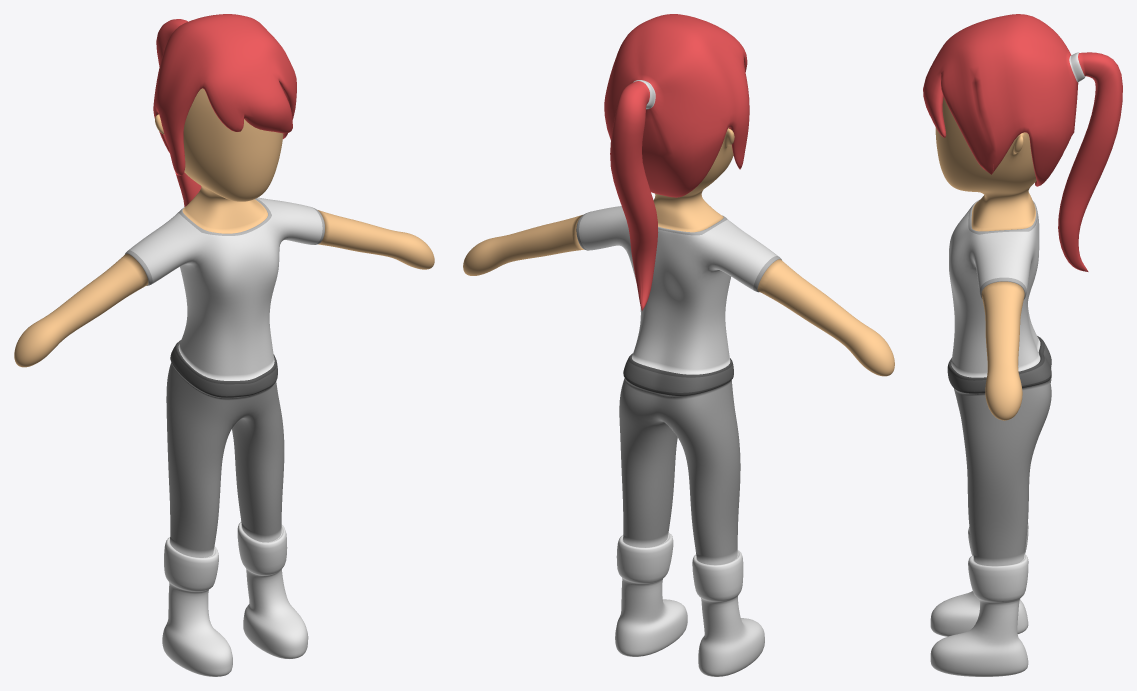
The model's file is NPC1.fbx.
3 renders of one model, left to right at view 1: azimuth 30°, elevation 25°; view 2: azimuth 150°, elevation 25°; view 3: azimuth 270°, elevation 25°, orthographic. The views are drawn at different scales.
Visible parts, largest first — view 1: Bob, Cube; view 2: Bob, Cube; view 3: Bob, Cube.
Part boxes in pixels (box(x1,y1,x2,y2)): Bob: box(14, 88, 434, 676); Cube: box(153, 14, 296, 206); Bob: box(463, 127, 894, 676); Cube: box(604, 14, 749, 310); Bob: box(930, 97, 1051, 676); Cube: box(923, 14, 1122, 271).
Size of the model in its own units: 773 by 1103 by 319.
